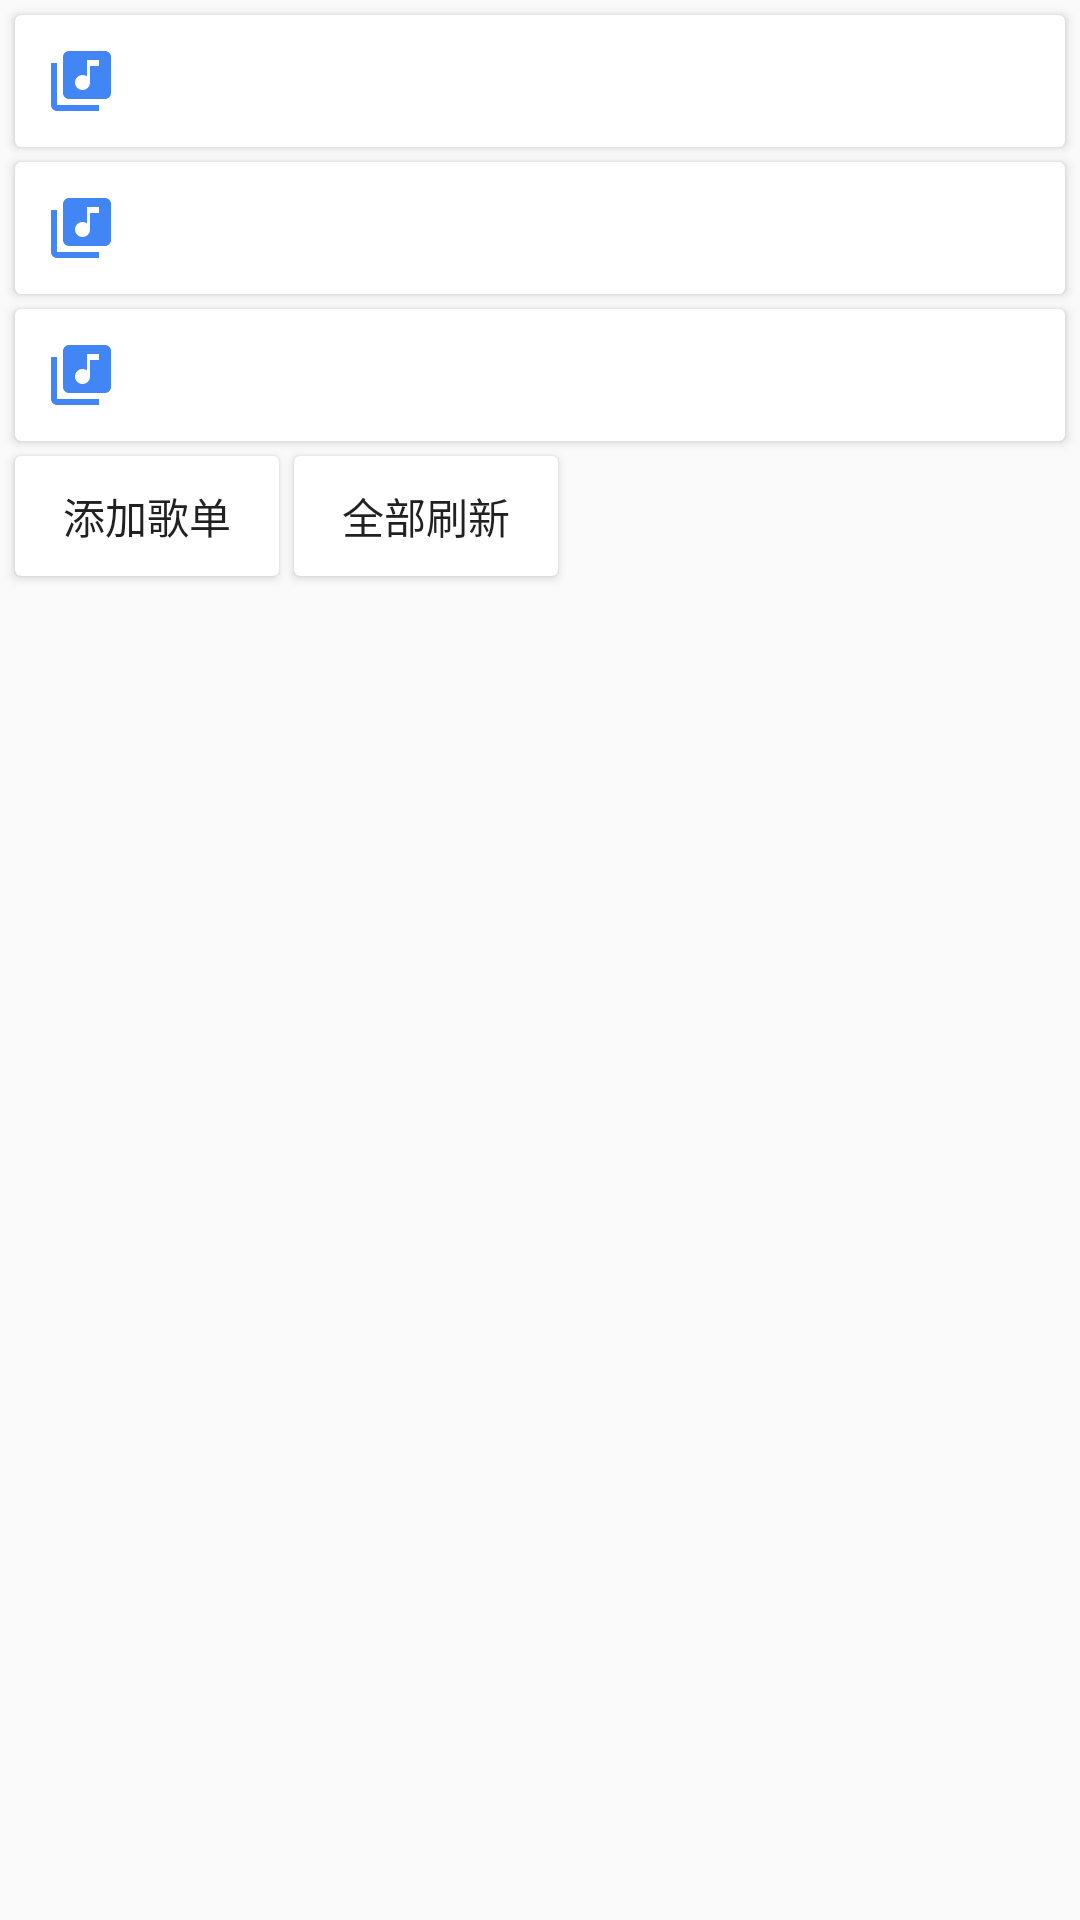

Where to tap for icons on this 1080 x 1920 app screen, as (x,y):
local list: (81,81), (81,228), (81,375)
